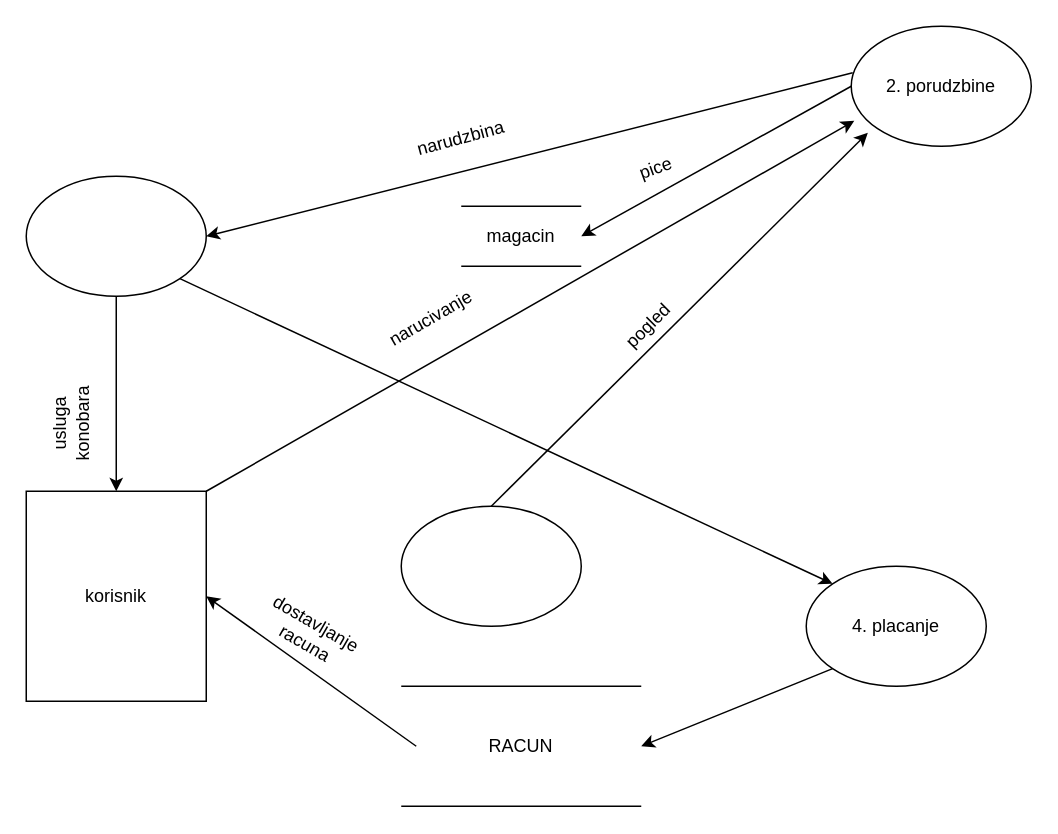
The diagram is 1058 pixels wide and 834 high, and some of its shapes have lost their labels. Here are the shapes that lost their labels. From the top down, the box of each, then its label:
(25, 175, 206, 296): 3. usluga
(400, 505, 581, 626): 1. konobar
